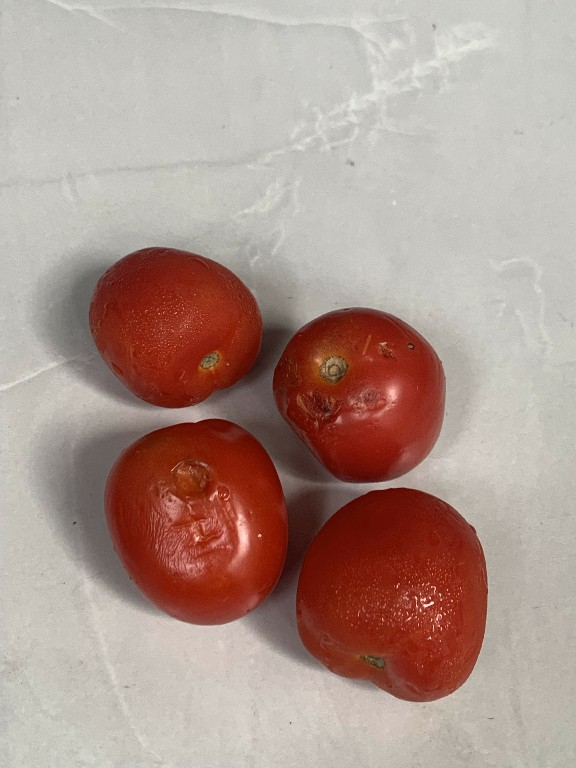NG: (90, 415, 294, 632), (274, 300, 445, 484)
OK: (314, 471, 508, 707), (86, 243, 265, 410)
